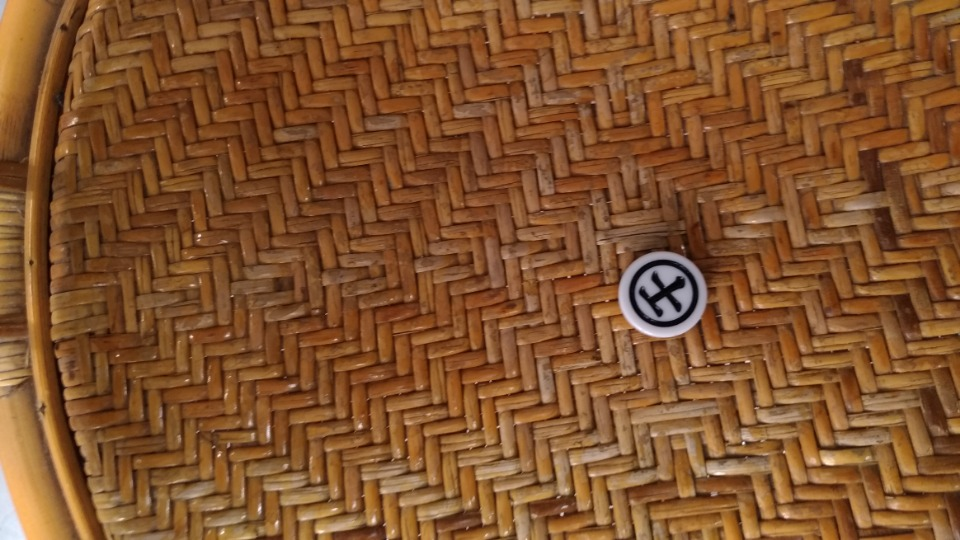b-advisor: (608, 242, 709, 337)
